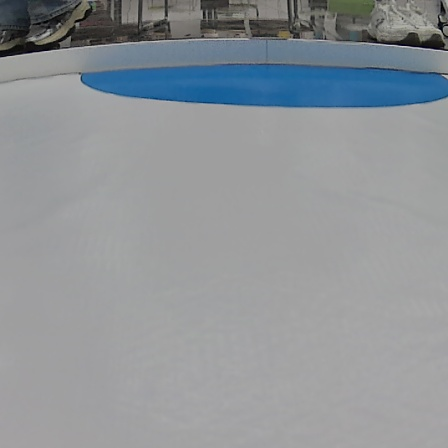blue_base: (79, 62, 448, 108)
